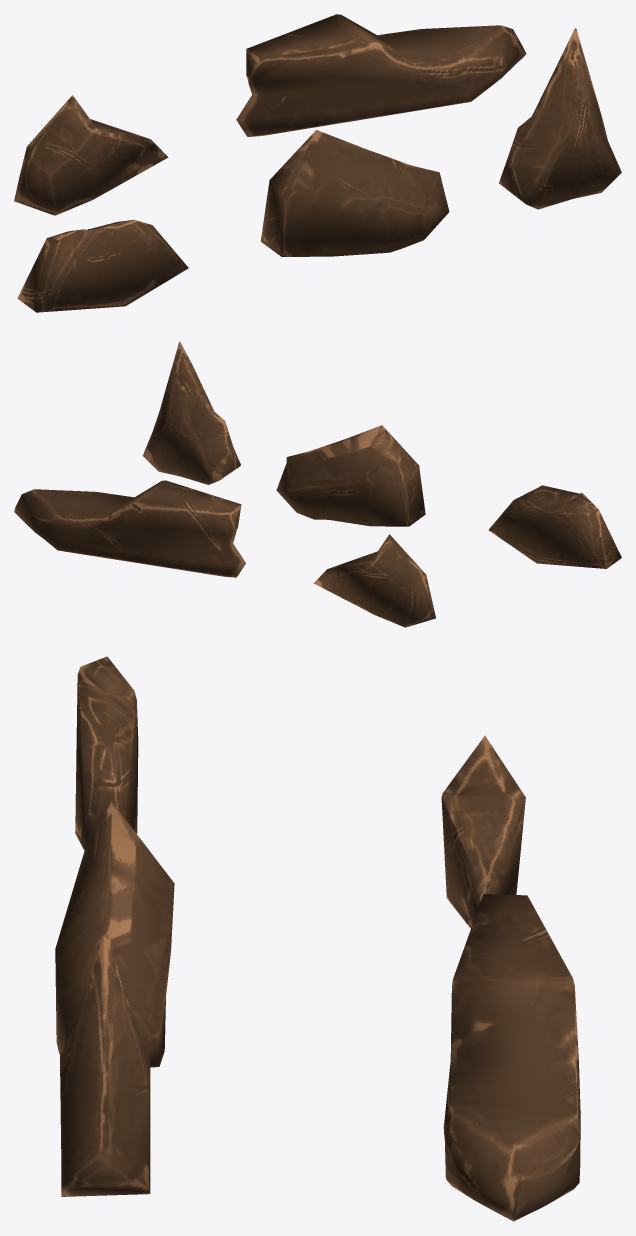
The model's file is TinyRocks.gltf.
The picture shows the model from 3 angles, top to bottom: view 1: azimuth 30°, elevation 25°; view 2: azimuth 150°, elevation 25°; view 3: azimuth 270°, elevation 25°; orthographic projection. The views are drawn at different scales.
Parts seen in each view (by area): view 1: TinyRock4_low, TinyRock1_low, TinyRock2_low, TinyRock5_low, TinyRock3_low; view 2: TinyRock4_low, TinyRock1_low, TinyRock5_low, TinyRock2_low, TinyRock3_low; view 3: TinyRock4_low, TinyRock1_low, TinyRock2_low, TinyRock3_low, TinyRock5_low.
Part boxes in pixels (x1=…): TinyRock4_low: x1=236, y1=14, x2=526, y2=136; TinyRock1_low: x1=260, y1=130, x2=449, y2=256; TinyRock2_low: x1=499, y1=28, x2=621, y2=209; TinyRock5_low: x1=17, y1=219, x2=188, y2=312; TinyRock3_low: x1=14, y1=95, x2=168, y2=215; TinyRock4_low: x1=14, y1=480, x2=245, y2=577; TinyRock1_low: x1=276, y1=425, x2=425, y2=526; TinyRock5_low: x1=488, y1=485, x2=621, y2=568; TinyRock2_low: x1=143, y1=341, x2=240, y2=484; TinyRock3_low: x1=313, y1=534, x2=435, y2=627; TinyRock4_low: x1=443, y1=894, x2=580, y2=1221; TinyRock1_low: x1=55, y1=802, x2=174, y2=1067; TinyRock2_low: x1=60, y1=936, x2=150, y2=1196; TinyRock3_low: x1=441, y1=736, x2=525, y2=928; TinyRock5_low: x1=75, y1=656, x2=138, y2=850.
Size of the model in its own units: 3.4 by 0.8607 by 1.55.
1 material, 1 textured.
